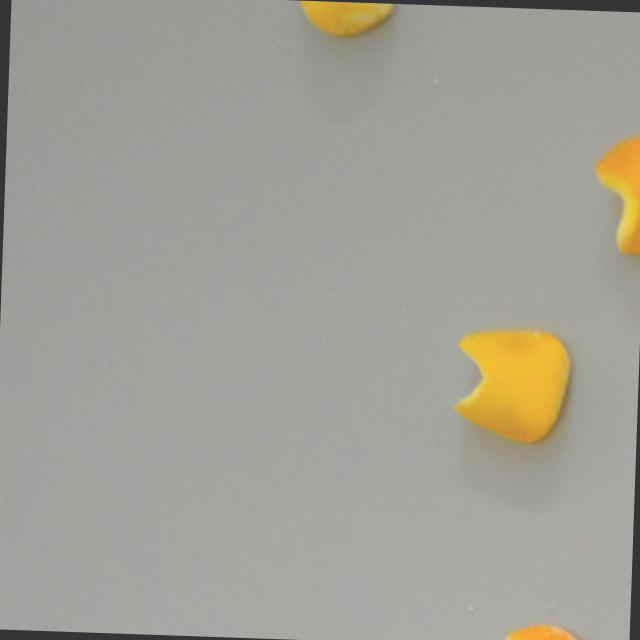no_canjicado: (451, 324, 569, 443)
pelicula: (582, 149, 640, 237), (474, 621, 597, 640)
